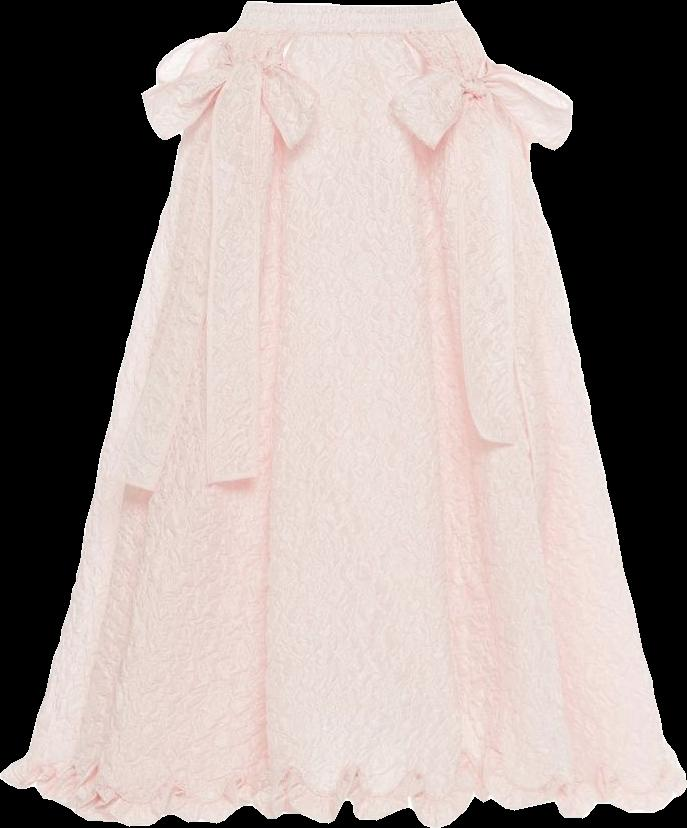Hemline: (0, 768, 686, 827)
Waistline: (225, 26, 476, 46), (242, 0, 456, 9)
